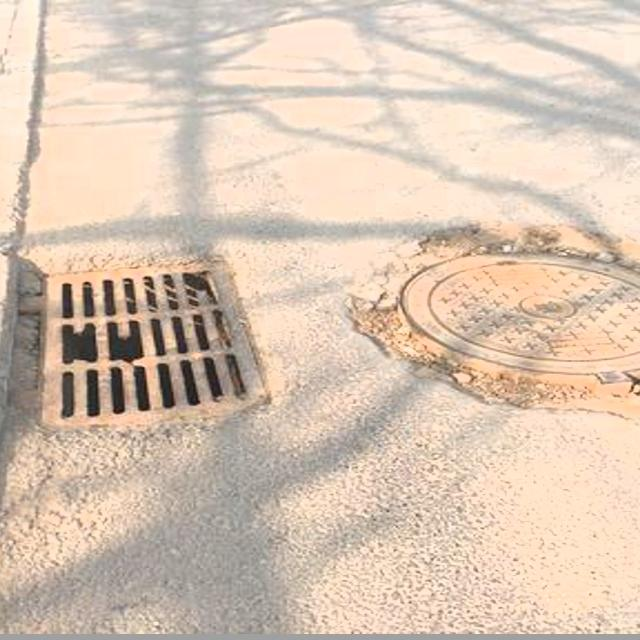circle: (336, 206, 640, 426)
